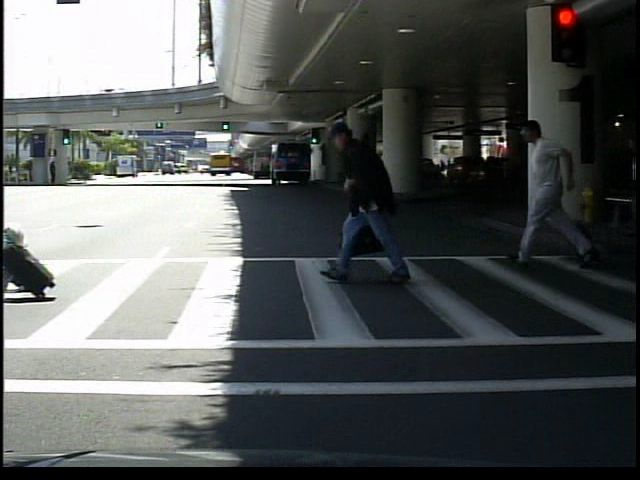person: (324, 115, 414, 287), (522, 112, 586, 270)
